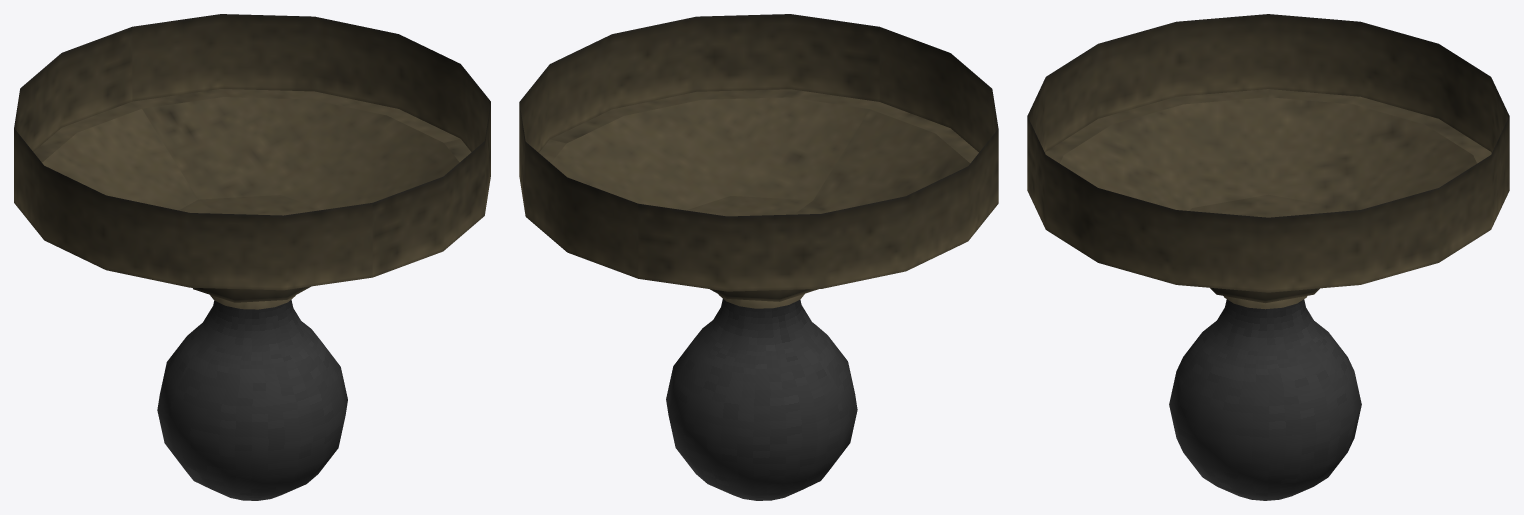
File: ceiling_lamp_mp_1_1_off.fbx
3 views of the same model, side by side, from view 1: azimuth 30°, elevation 25°; view 2: azimuth 150°, elevation 25°; view 3: azimuth 270°, elevation 25° (orthographic).
Parts seen in each view (by area): view 1: ceiling_lamp_mp_1_1_off; view 2: ceiling_lamp_mp_1_1_off; view 3: ceiling_lamp_mp_1_1_off.
Boxes of the visible parts, left/top/right/bottom form: ceiling_lamp_mp_1_1_off: left=14, top=14, right=490, bottom=500; ceiling_lamp_mp_1_1_off: left=519, top=14, right=998, bottom=500; ceiling_lamp_mp_1_1_off: left=1027, top=14, right=1509, bottom=500.
Size of the model in its own units: 0.215 by 0.215 by 0.1855.
